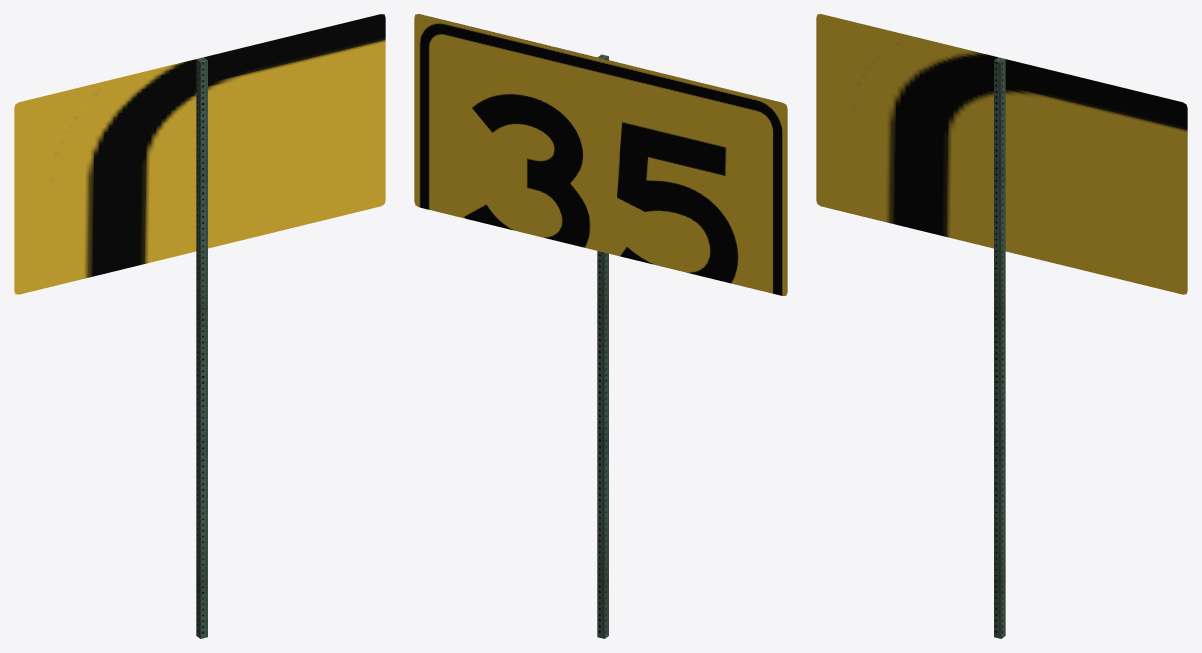
File: GSDSign988.FBX
3 views of the same model, side by side, from view 1: azimuth 30°, elevation 25°; view 2: azimuth 150°, elevation 25°; view 3: azimuth 330°, elevation 25° (orthographic).
Parts seen in each view (by area): view 1: GSDSign988; view 2: GSDSign988; view 3: GSDSign988.
Part boxes in pixels (x1=…): GSDSign988: x1=14, y1=14, x2=385, y2=638; GSDSign988: x1=414, y1=14, x2=787, y2=638; GSDSign988: x1=816, y1=14, x2=1187, y2=638.
Bounding box in the file's own units: 1.52 × 2.25 × 0.031.
Materials: 1 (1 with a texture image).
